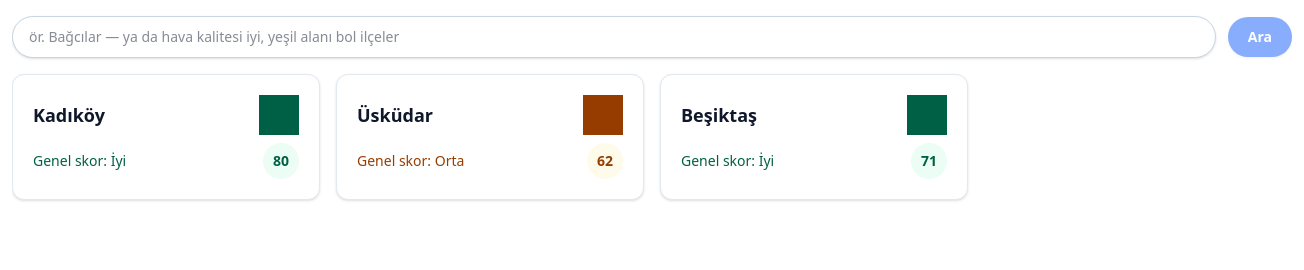
it: NeighborhoodSearchableList › filters the grid by district name as the user types, without any request
The image size is (1304, 270).
Replace the text in the field named "İlçe ara" with "Kadı" at (614, 37), box top-left (12, 16), bottom-right (1216, 58)
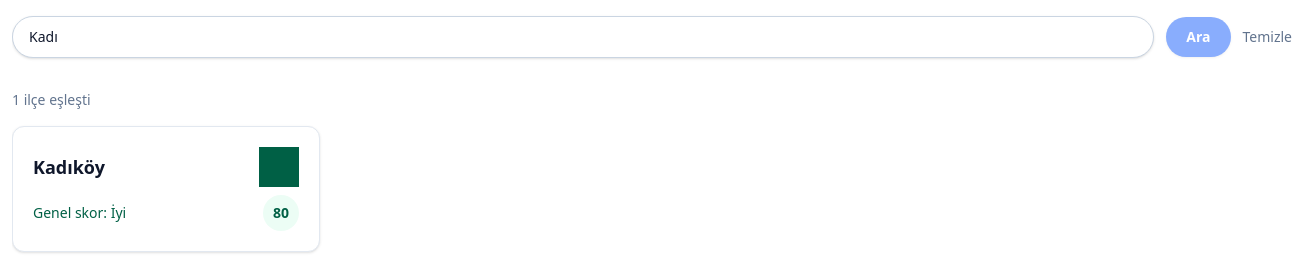
expect the text "Kadıköy" is shown: met, box top-left (33, 153), bottom-right (105, 181)
expect the link "Üsküdar" is gone: met
expect the link "Beşiktaş" is gone: met
